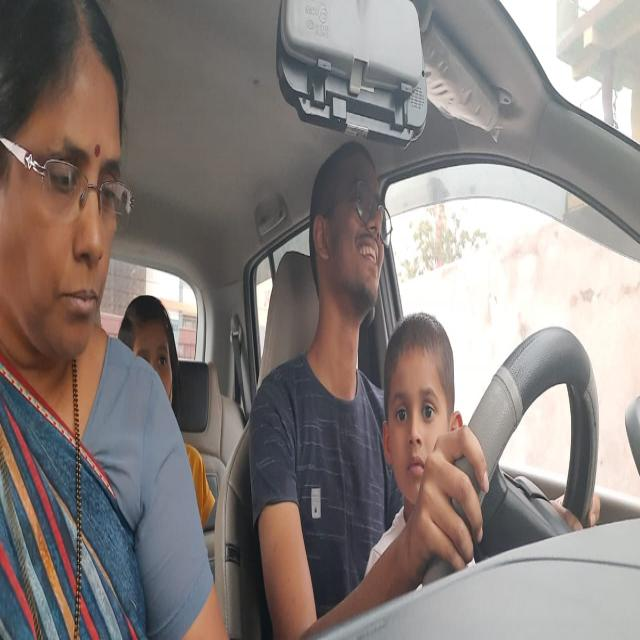child: (380, 315, 450, 499)
person: (3, 11, 126, 369), (307, 142, 390, 334), (120, 298, 182, 425)
